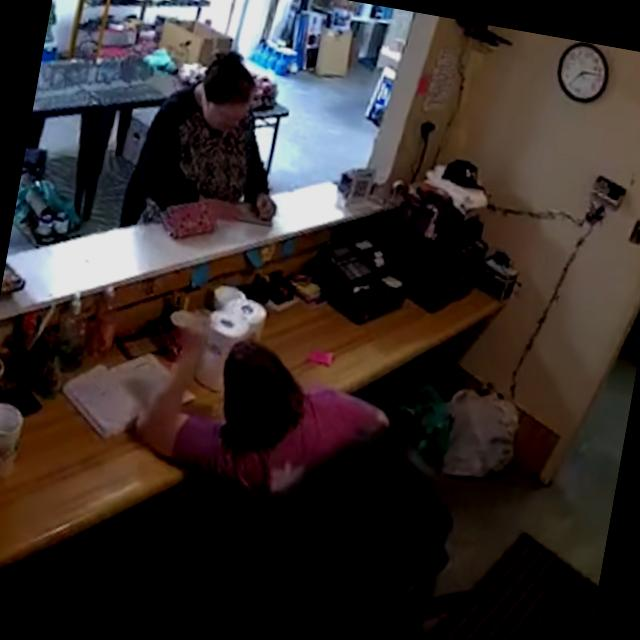person: (119, 310, 404, 543), (123, 36, 302, 249)
